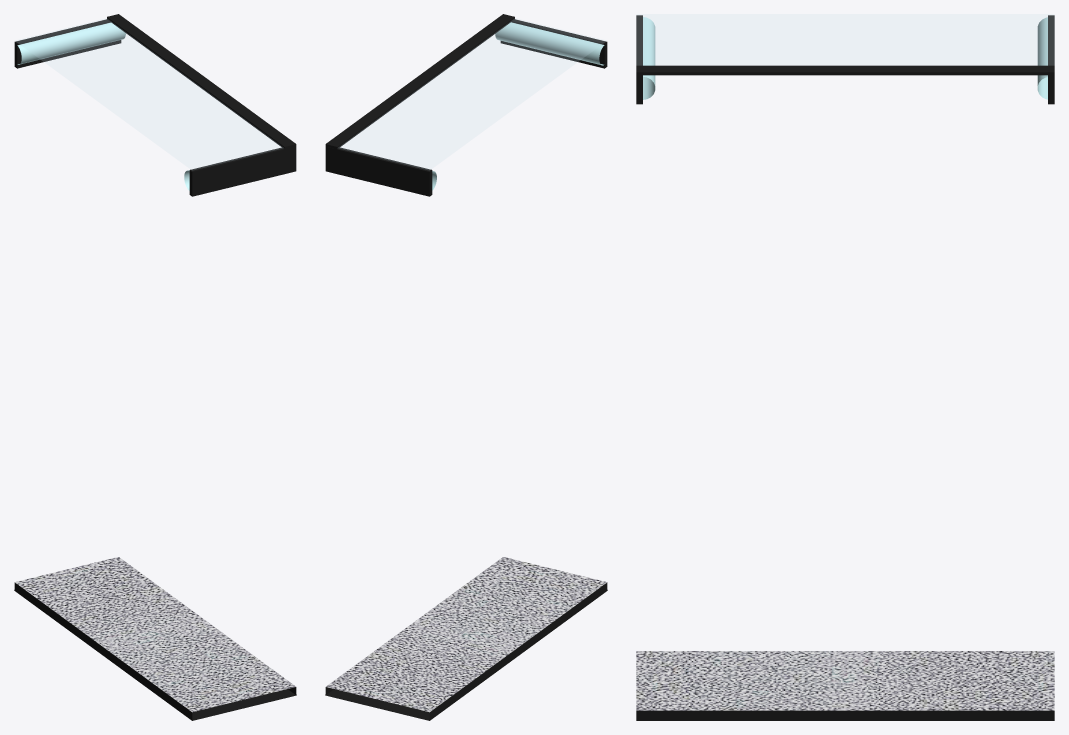
File: ltd_40.obj
3 renders of one model, left to right at view 1: azimuth 30°, elevation 25°; view 2: azimuth 150°, elevation 25°; view 3: azimuth 270°, elevation 25°, orthographic. The views are drawn at different scales.
Visible parts, largest first — view 1: Box274, Plane003, Box273, Box272, ltd_deng002, Box275; view 2: Box274, Plane003, Box275, Box272, ltd_deng002, Box273; view 3: Box274, Plane003, Box272, ltd_deng002.
Part boxes in pixels (x1,y1,x2,y2): Box274: [14, 557, 296, 720]; Plane003: [16, 18, 282, 169]; Box273: [189, 146, 296, 196]; Box272: [107, 14, 296, 149]; ltd_deng002: [17, 22, 189, 190]; Box275: [14, 19, 121, 68]; Box274: [325, 557, 607, 720]; Plane003: [339, 18, 605, 169]; Box275: [325, 146, 432, 196]; Box272: [325, 14, 514, 149]; ltd_deng002: [432, 22, 604, 190]; Box273: [500, 19, 607, 68]; Box274: [636, 651, 1054, 720]; Plane003: [637, 14, 1053, 64]; Box272: [636, 65, 1054, 75]; ltd_deng002: [643, 17, 1047, 99].
Size of the model in its own units: 44 by 222 by 130.
4 materials, 1 textured.
